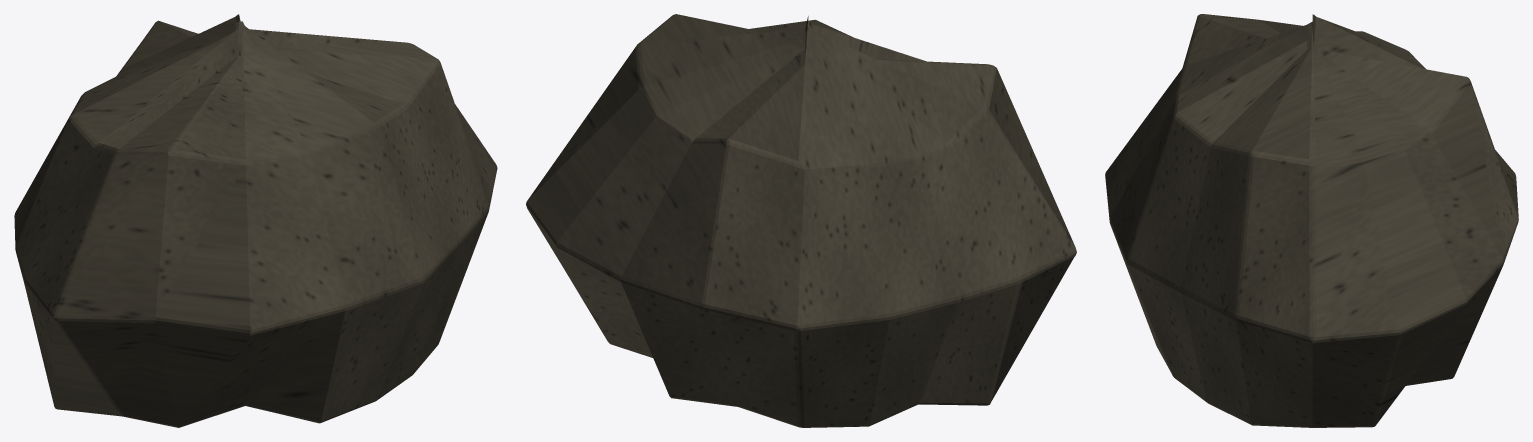
File: PROP-CFF281F9BD5B_lod0.glb
3 views of the same model, side by side, from view 1: azimuth 30°, elevation 25°; view 2: azimuth 150°, elevation 25°; view 3: azimuth 270°, elevation 25° (orthographic). The views are drawn at different scales.
Parts seen in each view (by area): view 1: rock; view 2: rock; view 3: rock.
Boxes of the visible parts, x1,y1,x2,y2 form: rock: (14, 14, 497, 427); rock: (526, 14, 1076, 427); rock: (1105, 14, 1518, 427).
Bounding box in the file's own units: 1.2 × 0.828 × 0.9266.
1 material, 1 textured.
